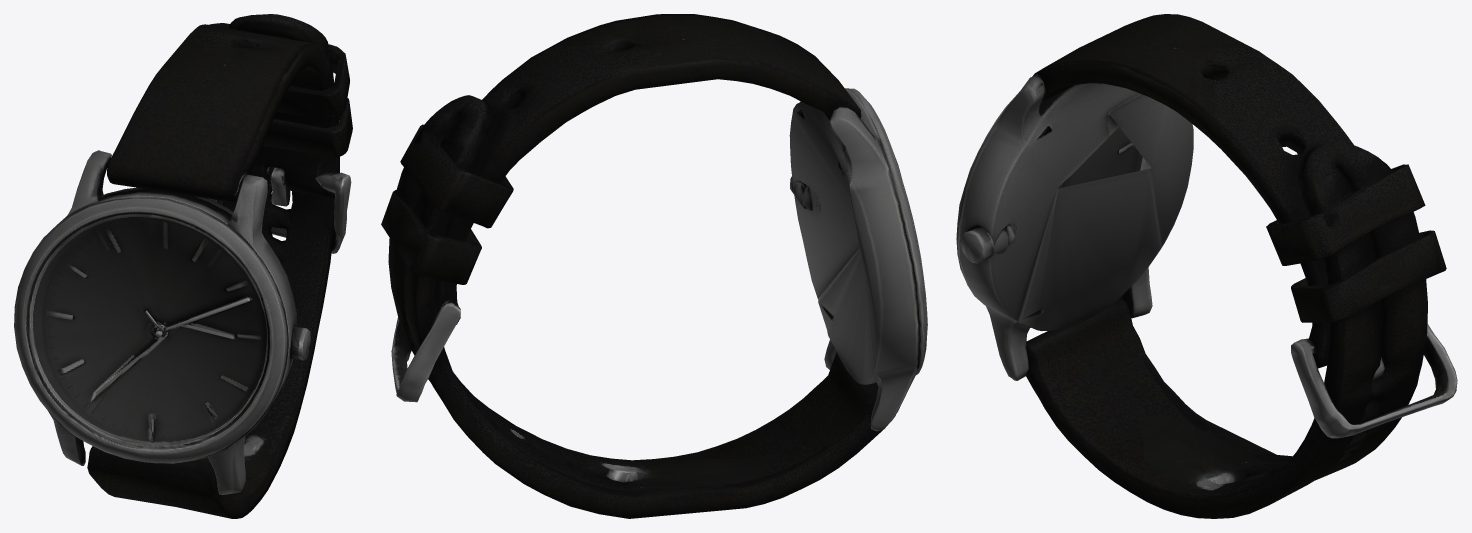
Rendered from black+wristwatch+3d+model.glb.
3 views of the same model, side by side, from view 1: azimuth 30°, elevation 25°; view 2: azimuth 150°, elevation 25°; view 3: azimuth 270°, elevation 25° (orthographic). The views are drawn at different scales.
Visible parts, largest first — view 1: tripo_node_ad0bb7ee-36e8-4b6f-a0f4-874e2a3f18b8; view 2: tripo_node_ad0bb7ee-36e8-4b6f-a0f4-874e2a3f18b8; view 3: tripo_node_ad0bb7ee-36e8-4b6f-a0f4-874e2a3f18b8.
Part boxes in pixels (x1,y1,x2,y2): tripo_node_ad0bb7ee-36e8-4b6f-a0f4-874e2a3f18b8: (14, 14, 352, 518); tripo_node_ad0bb7ee-36e8-4b6f-a0f4-874e2a3f18b8: (381, 14, 927, 518); tripo_node_ad0bb7ee-36e8-4b6f-a0f4-874e2a3f18b8: (956, 14, 1457, 518).
Size of the model in its own units: 0.998 by 0.9824 by 0.998.
Materials: 1 (1 with a texture image).
